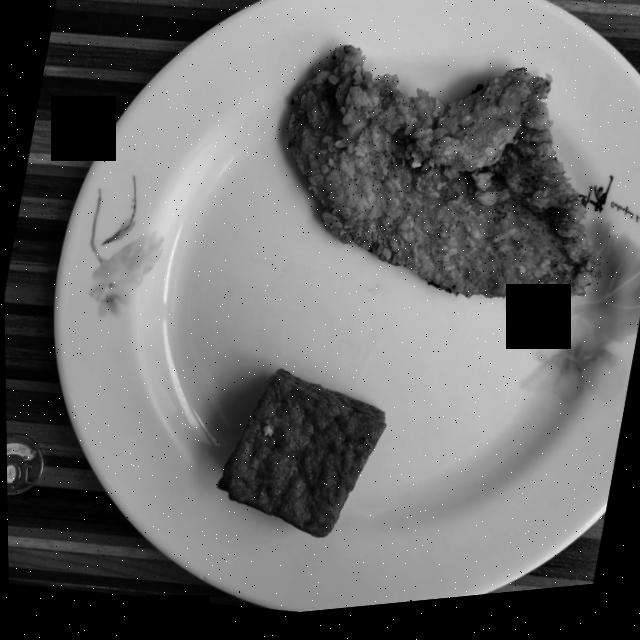coin: (5, 434, 42, 495)
egg tofu: (215, 375, 383, 544)
fried chicken cutlet: (287, 53, 598, 313)
